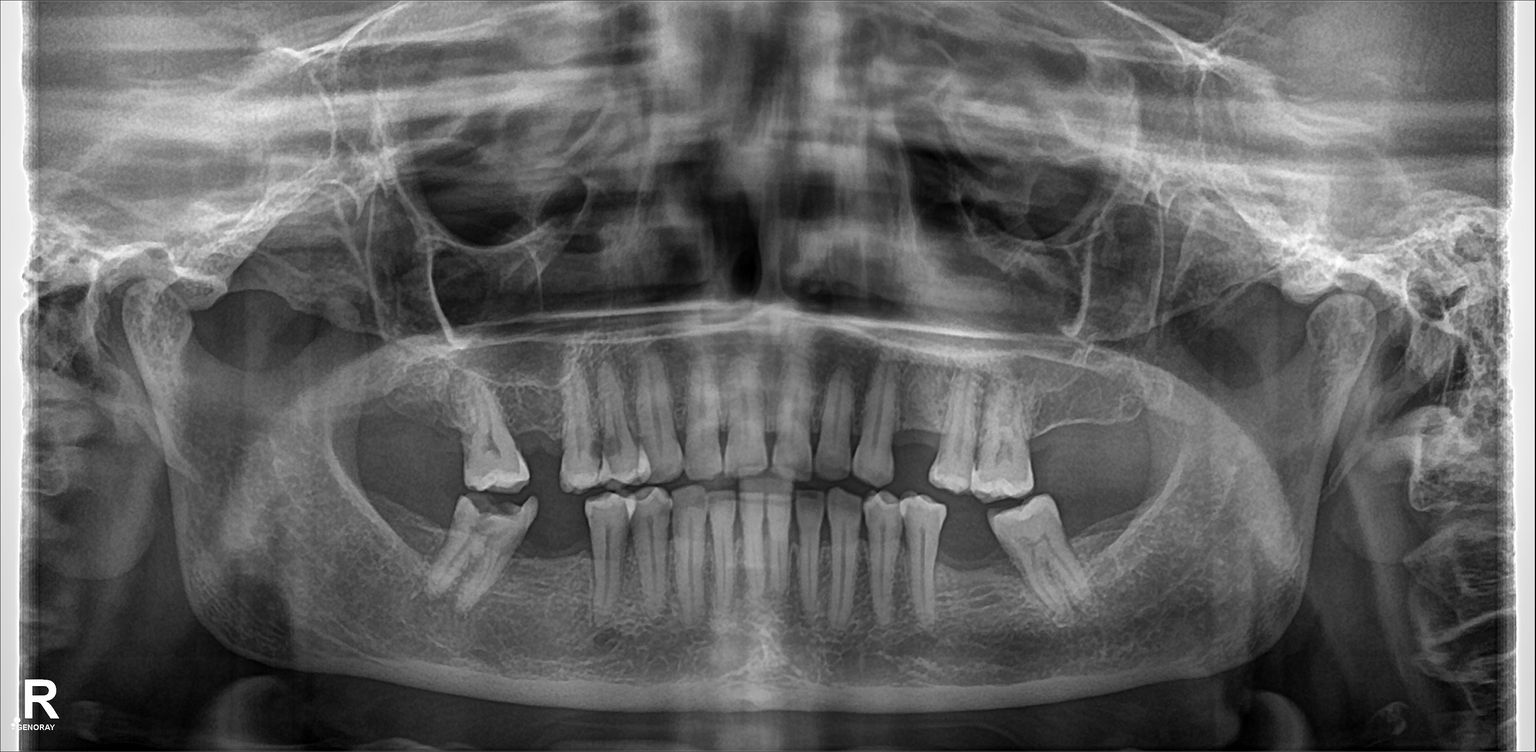Dental Caries: (464, 484, 523, 517), (583, 437, 624, 465)
Missing Tooth: (1088, 501, 1144, 593), (1153, 477, 1198, 590), (536, 508, 584, 611), (395, 490, 445, 588), (939, 504, 989, 600), (520, 378, 565, 484), (1080, 385, 1125, 483), (1127, 389, 1174, 474), (365, 374, 405, 469), (899, 389, 936, 487), (415, 376, 451, 471), (1034, 398, 1071, 478), (371, 486, 399, 585)
